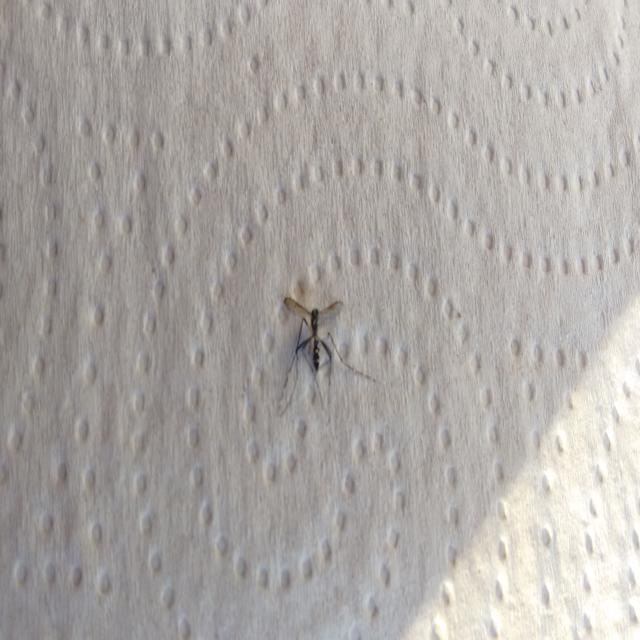albopictus: (276, 276, 377, 418)
